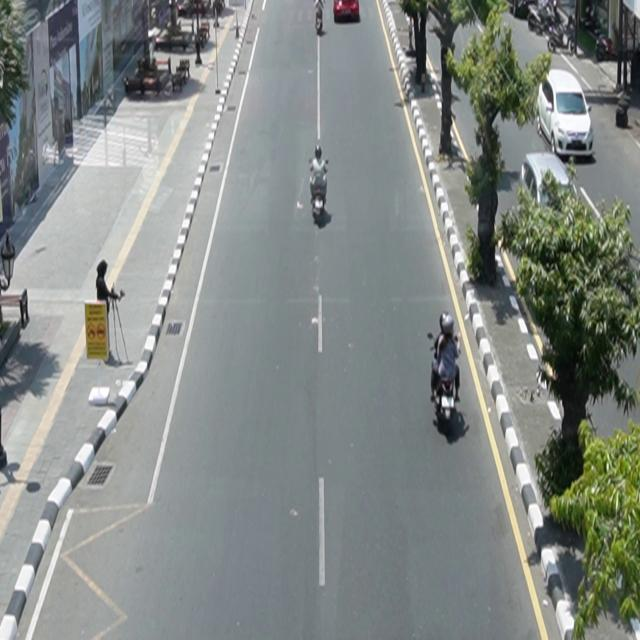car: (537, 69, 595, 160), (334, 1, 360, 23)
